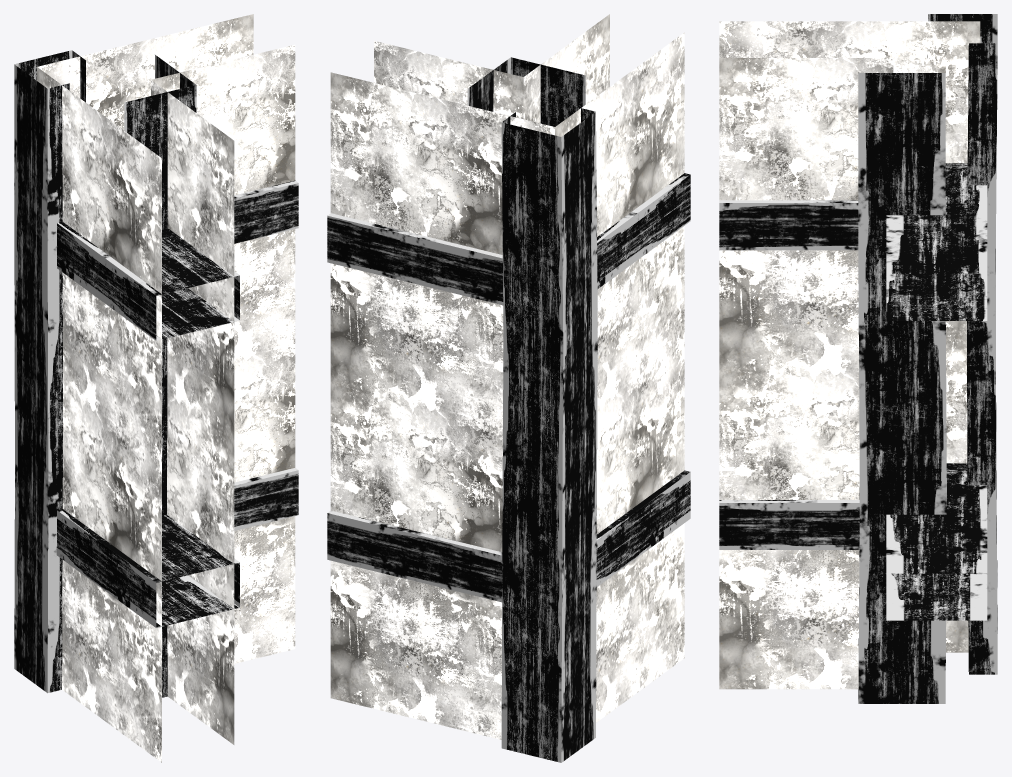
File: SM_wall_A_corner_4_02_03.fbx
3 views of the same model, side by side, from view 1: azimuth 30°, elevation 25°; view 2: azimuth 150°, elevation 25°; view 3: azimuth 270°, elevation 25° (orthographic). The views are drawn at different scales.
Parts seen in each view (by area): view 1: SM_wall_A_corner_4_02_03_LOD0; view 2: SM_wall_A_corner_4_02_03_LOD0; view 3: SM_wall_A_corner_4_02_03_LOD0.
Part boxes in pixels (<box>): SM_wall_A_corner_4_02_03_LOD0: <box>14,14,298,762</box>; SM_wall_A_corner_4_02_03_LOD0: <box>327,14,690,762</box>; SM_wall_A_corner_4_02_03_LOD0: <box>719,14,997,703</box>.
Size of the model in its own units: 161 by 160 by 400.
3 materials, 3 textured.
